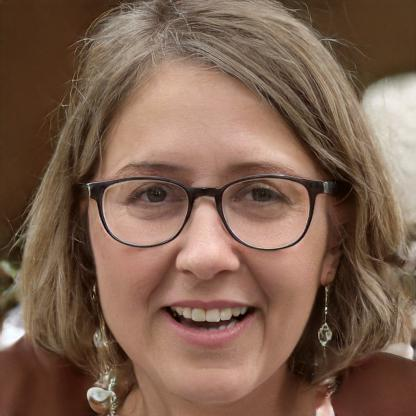glasses: (85, 173, 326, 254)
